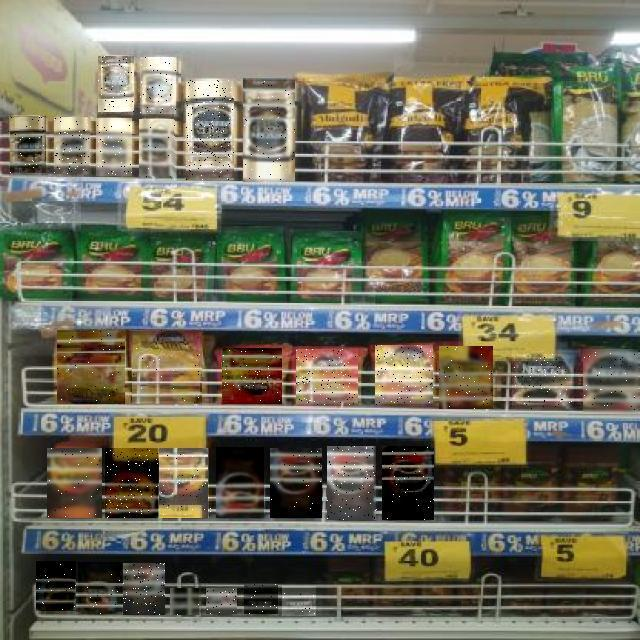Coffee: (243, 78, 295, 182), (133, 330, 203, 404), (57, 330, 125, 404), (186, 78, 234, 180), (47, 448, 102, 518), (383, 446, 435, 520), (105, 448, 158, 518), (328, 446, 378, 520), (270, 448, 322, 518), (160, 448, 212, 518), (584, 349, 640, 414), (375, 346, 433, 406), (296, 350, 358, 406), (512, 354, 574, 409), (216, 447, 264, 518), (439, 346, 493, 409), (223, 348, 283, 404), (78, 562, 122, 615), (123, 563, 165, 615), (96, 118, 132, 176), (140, 120, 176, 178), (36, 562, 76, 614), (141, 57, 177, 114), (11, 116, 47, 173), (55, 117, 91, 174), (98, 56, 134, 112), (244, 584, 278, 614), (282, 586, 316, 616), (206, 588, 237, 614), (170, 588, 199, 615)
